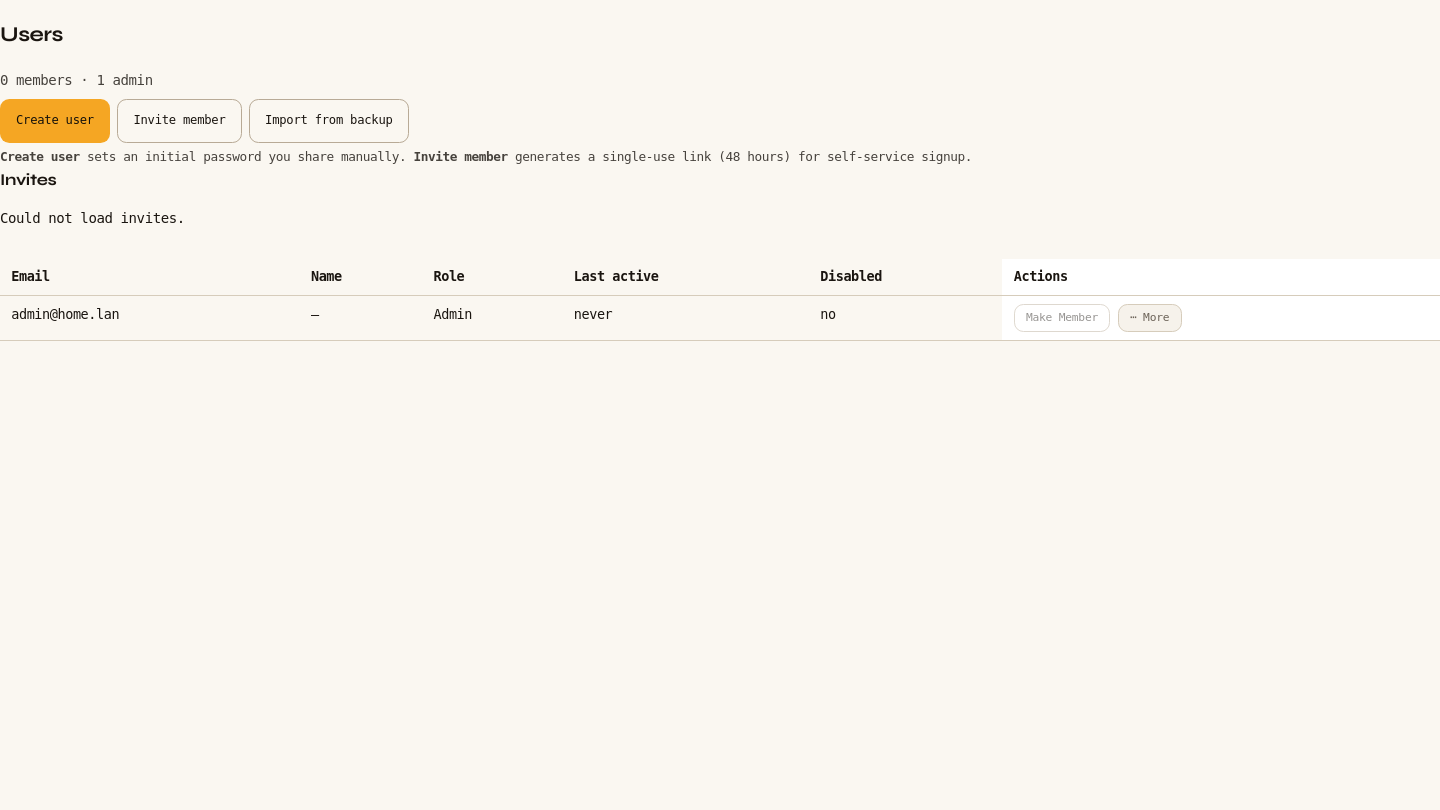
Test: AdminUsersView › import shows validation error when archive not selected
The width and height of the screenshot is (1440, 810).
Click the button "Import from backup". click: (329, 121)
box: left=249, top=99, right=408, bottom=143
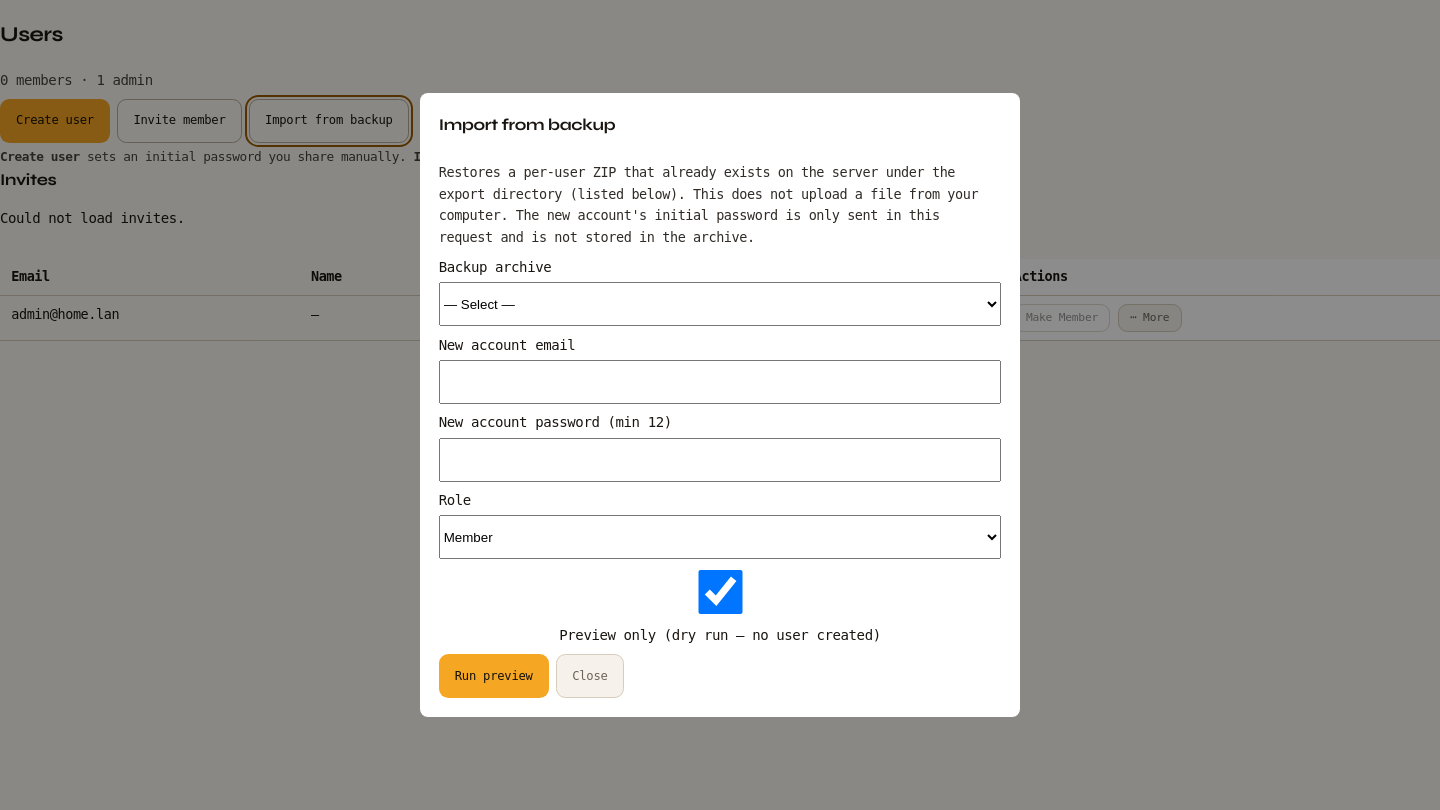
Check: the dropdown labelled "Backup archive" is shown, box left=439, top=282, right=1001, bottom=326
Type "new@example.com" into the field labelled "New account email". click: (720, 382)
box: left=439, top=360, right=1001, bottom=404
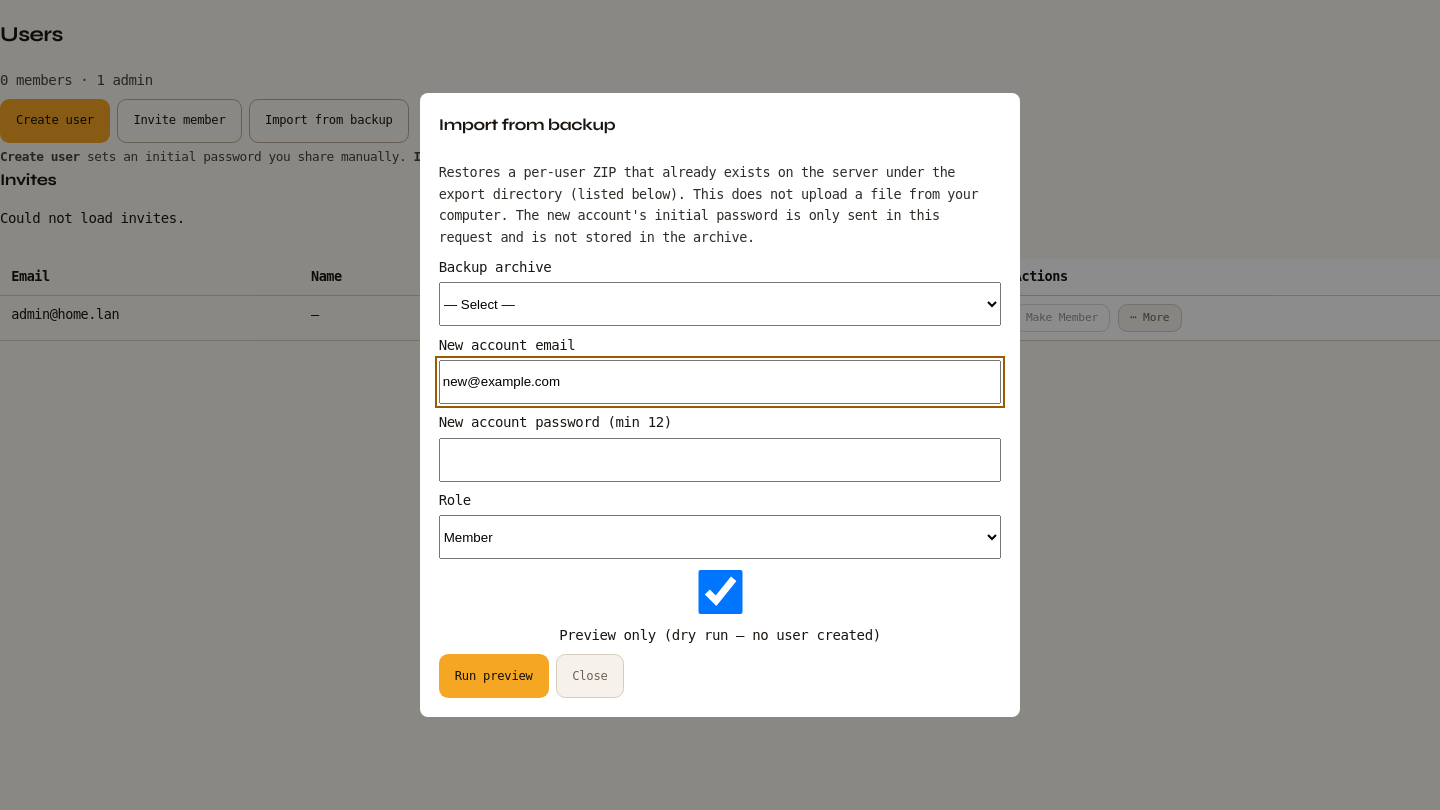
Type "newpassword1234" into the password field labelled "New account password (min 12)". click: (720, 460)
box: left=439, top=438, right=1001, bottom=482
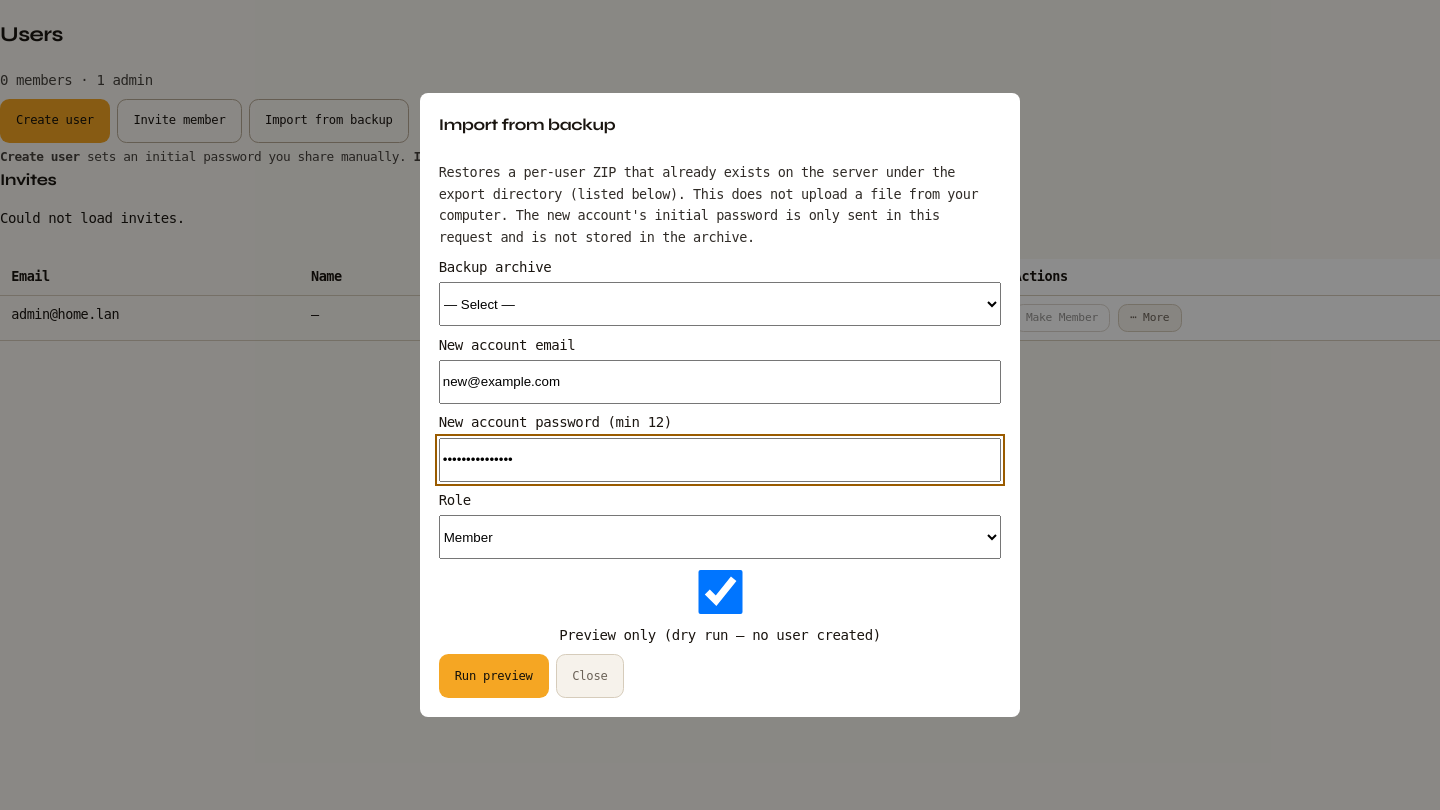
Click the button "Run preview". click: (494, 676)
box: left=439, top=654, right=549, bottom=698
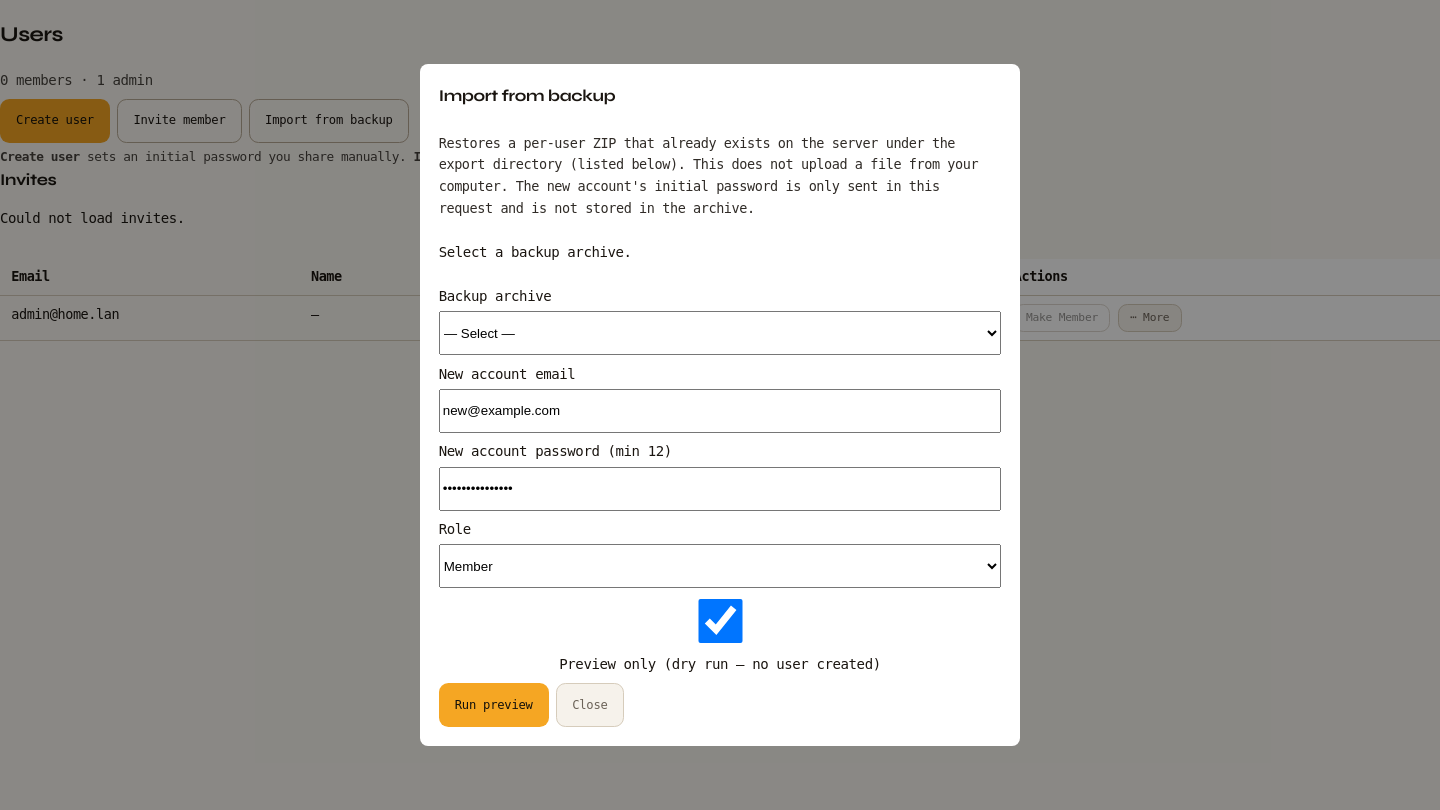
Check: the message shows "Select a backup archive", box left=439, top=244, right=632, bottom=260
